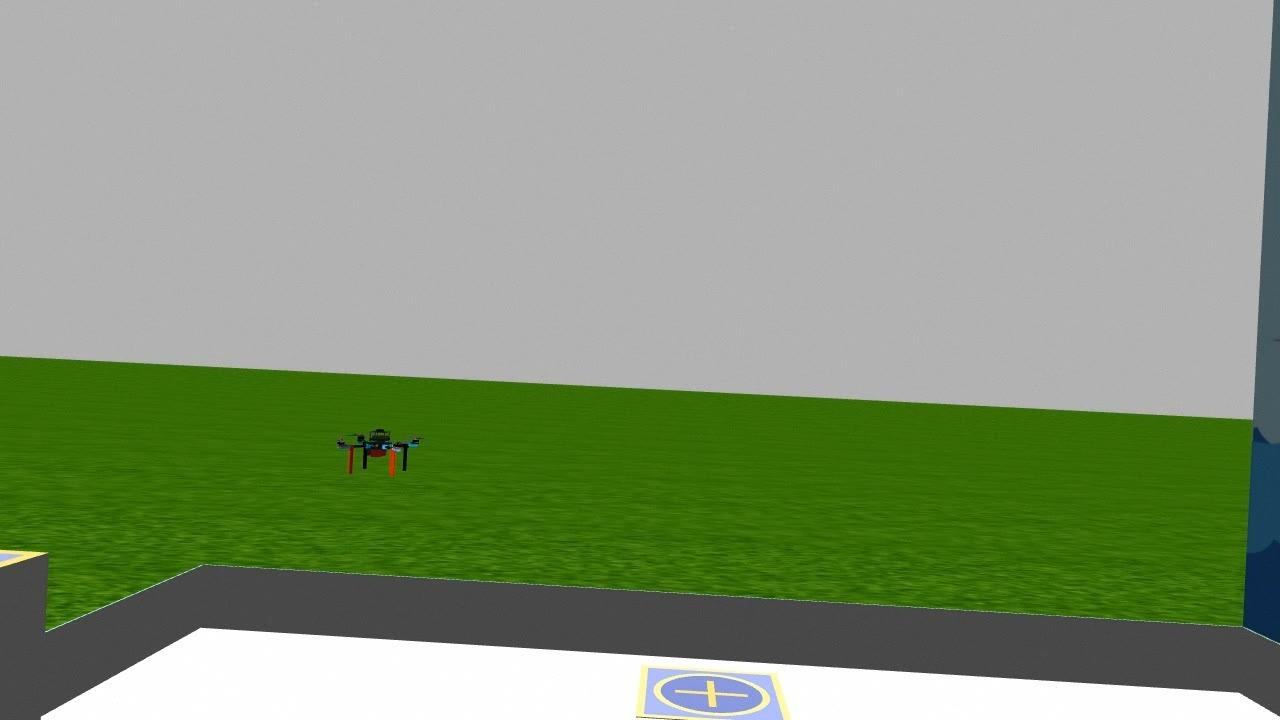UAV: (326, 413, 421, 494)
